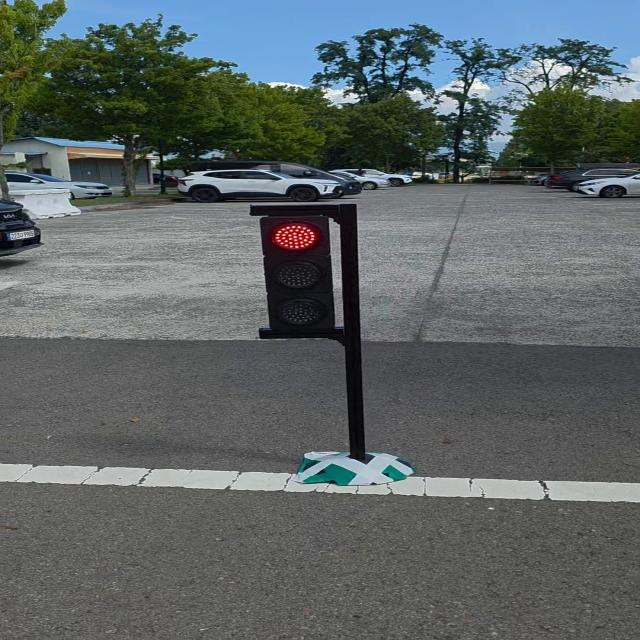red: (256, 209, 345, 338)
